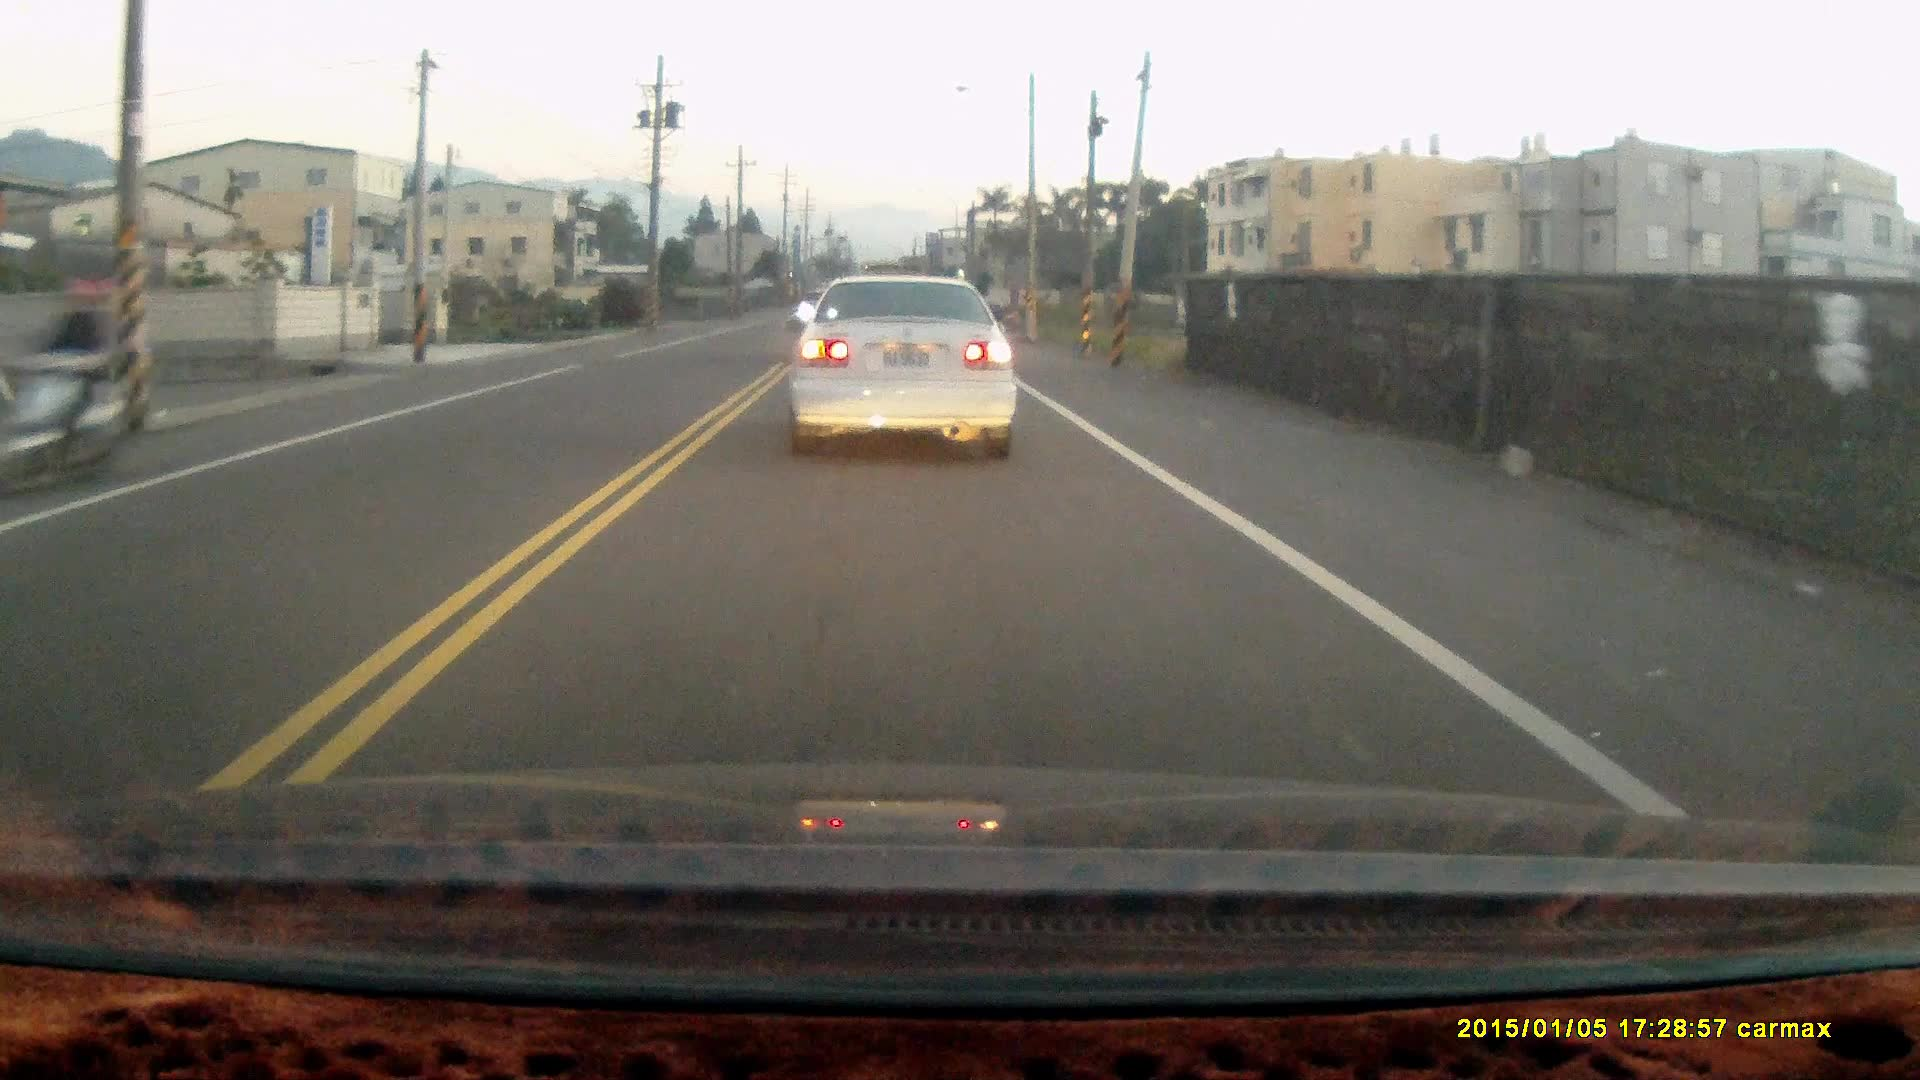rider: (0, 276, 128, 498)
vehicle: (785, 274, 1022, 463)
